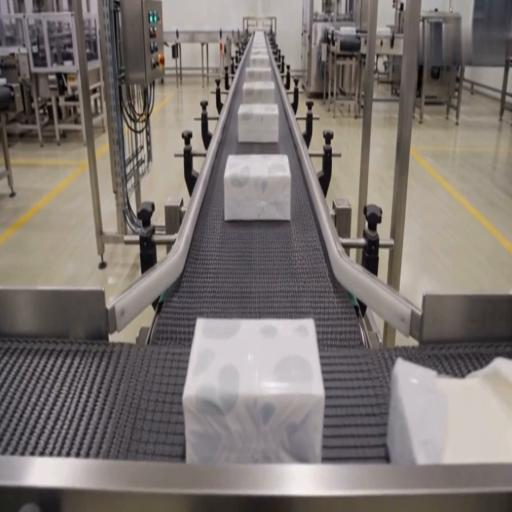defective: (388, 356, 511, 467)
good: (183, 316, 322, 466), (224, 153, 291, 223), (236, 104, 280, 144), (241, 80, 276, 104), (245, 64, 273, 83), (248, 44, 270, 63), (250, 33, 268, 51)
